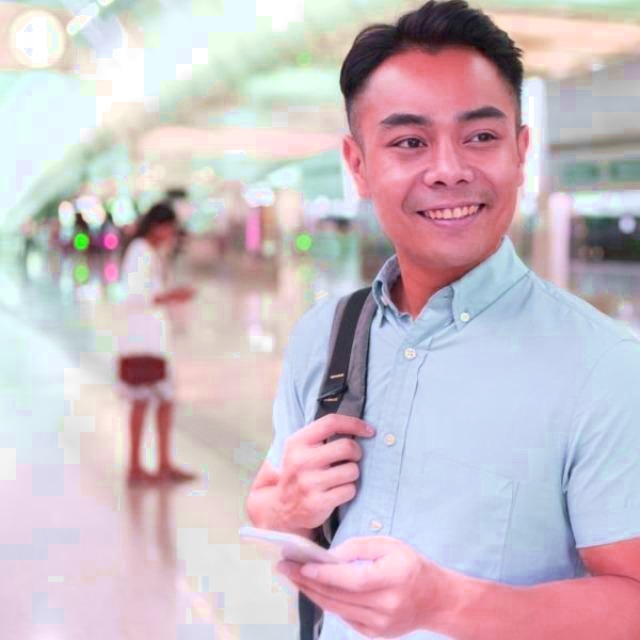Sin_Casco_Mascarrilla: (343, 2, 521, 262)
Sin_Chaleco: (277, 264, 640, 636)
